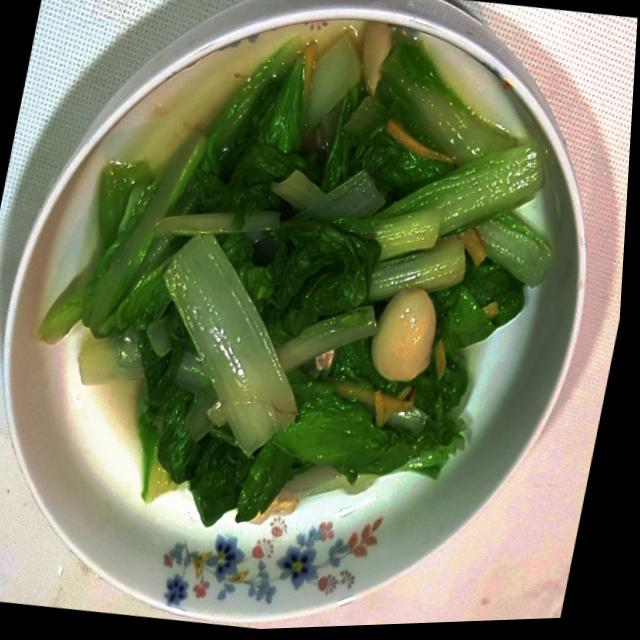chinese_cabbage: (73, 23, 603, 552)
